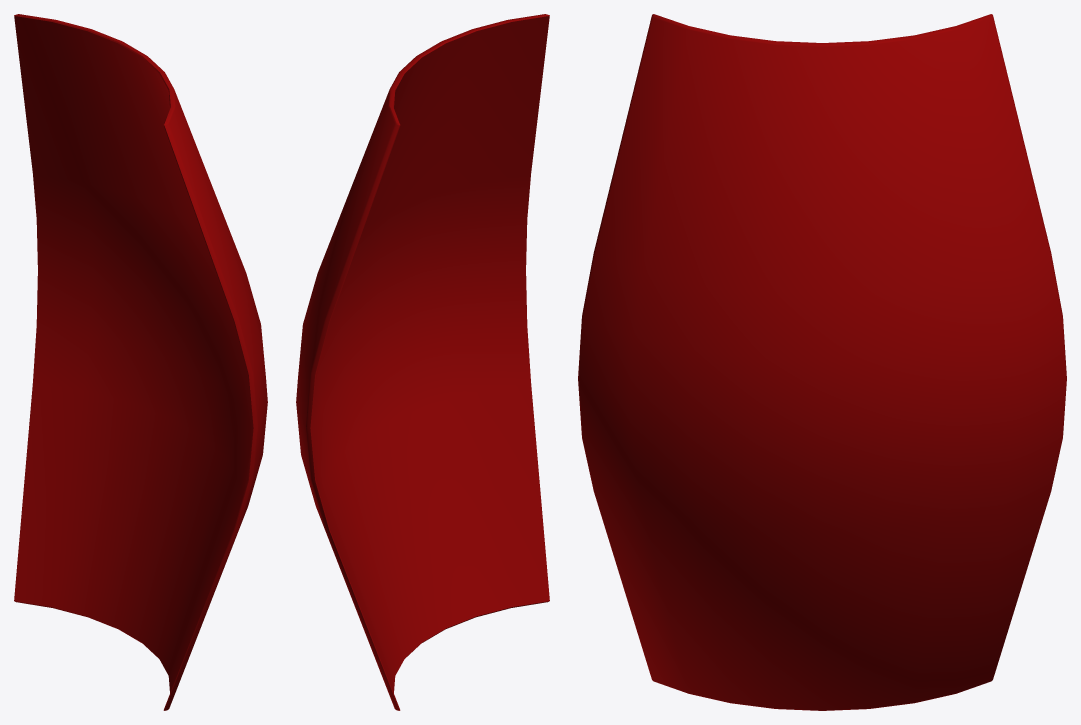
File: MoonBaboon_CorePillar_Shield_01.gltf
The picture shows the model from 3 angles, left to right: view 1: azimuth 30°, elevation 25°; view 2: azimuth 150°, elevation 25°; view 3: azimuth 270°, elevation 25°; orthographic projection. The views are drawn at different scales.
Visible parts, largest first — view 1: MoonBaboon_CorePillar_Shield_01; view 2: MoonBaboon_CorePillar_Shield_01; view 3: MoonBaboon_CorePillar_Shield_01.
Boxes of the visible parts, <box> form: MoonBaboon_CorePillar_Shield_01: <box>14,14,267,710</box>; MoonBaboon_CorePillar_Shield_01: <box>296,14,549,710</box>; MoonBaboon_CorePillar_Shield_01: <box>578,14,1066,710</box>.
Bounding box in the file's own units: 0.7558 × 3.06 × 2.03.
